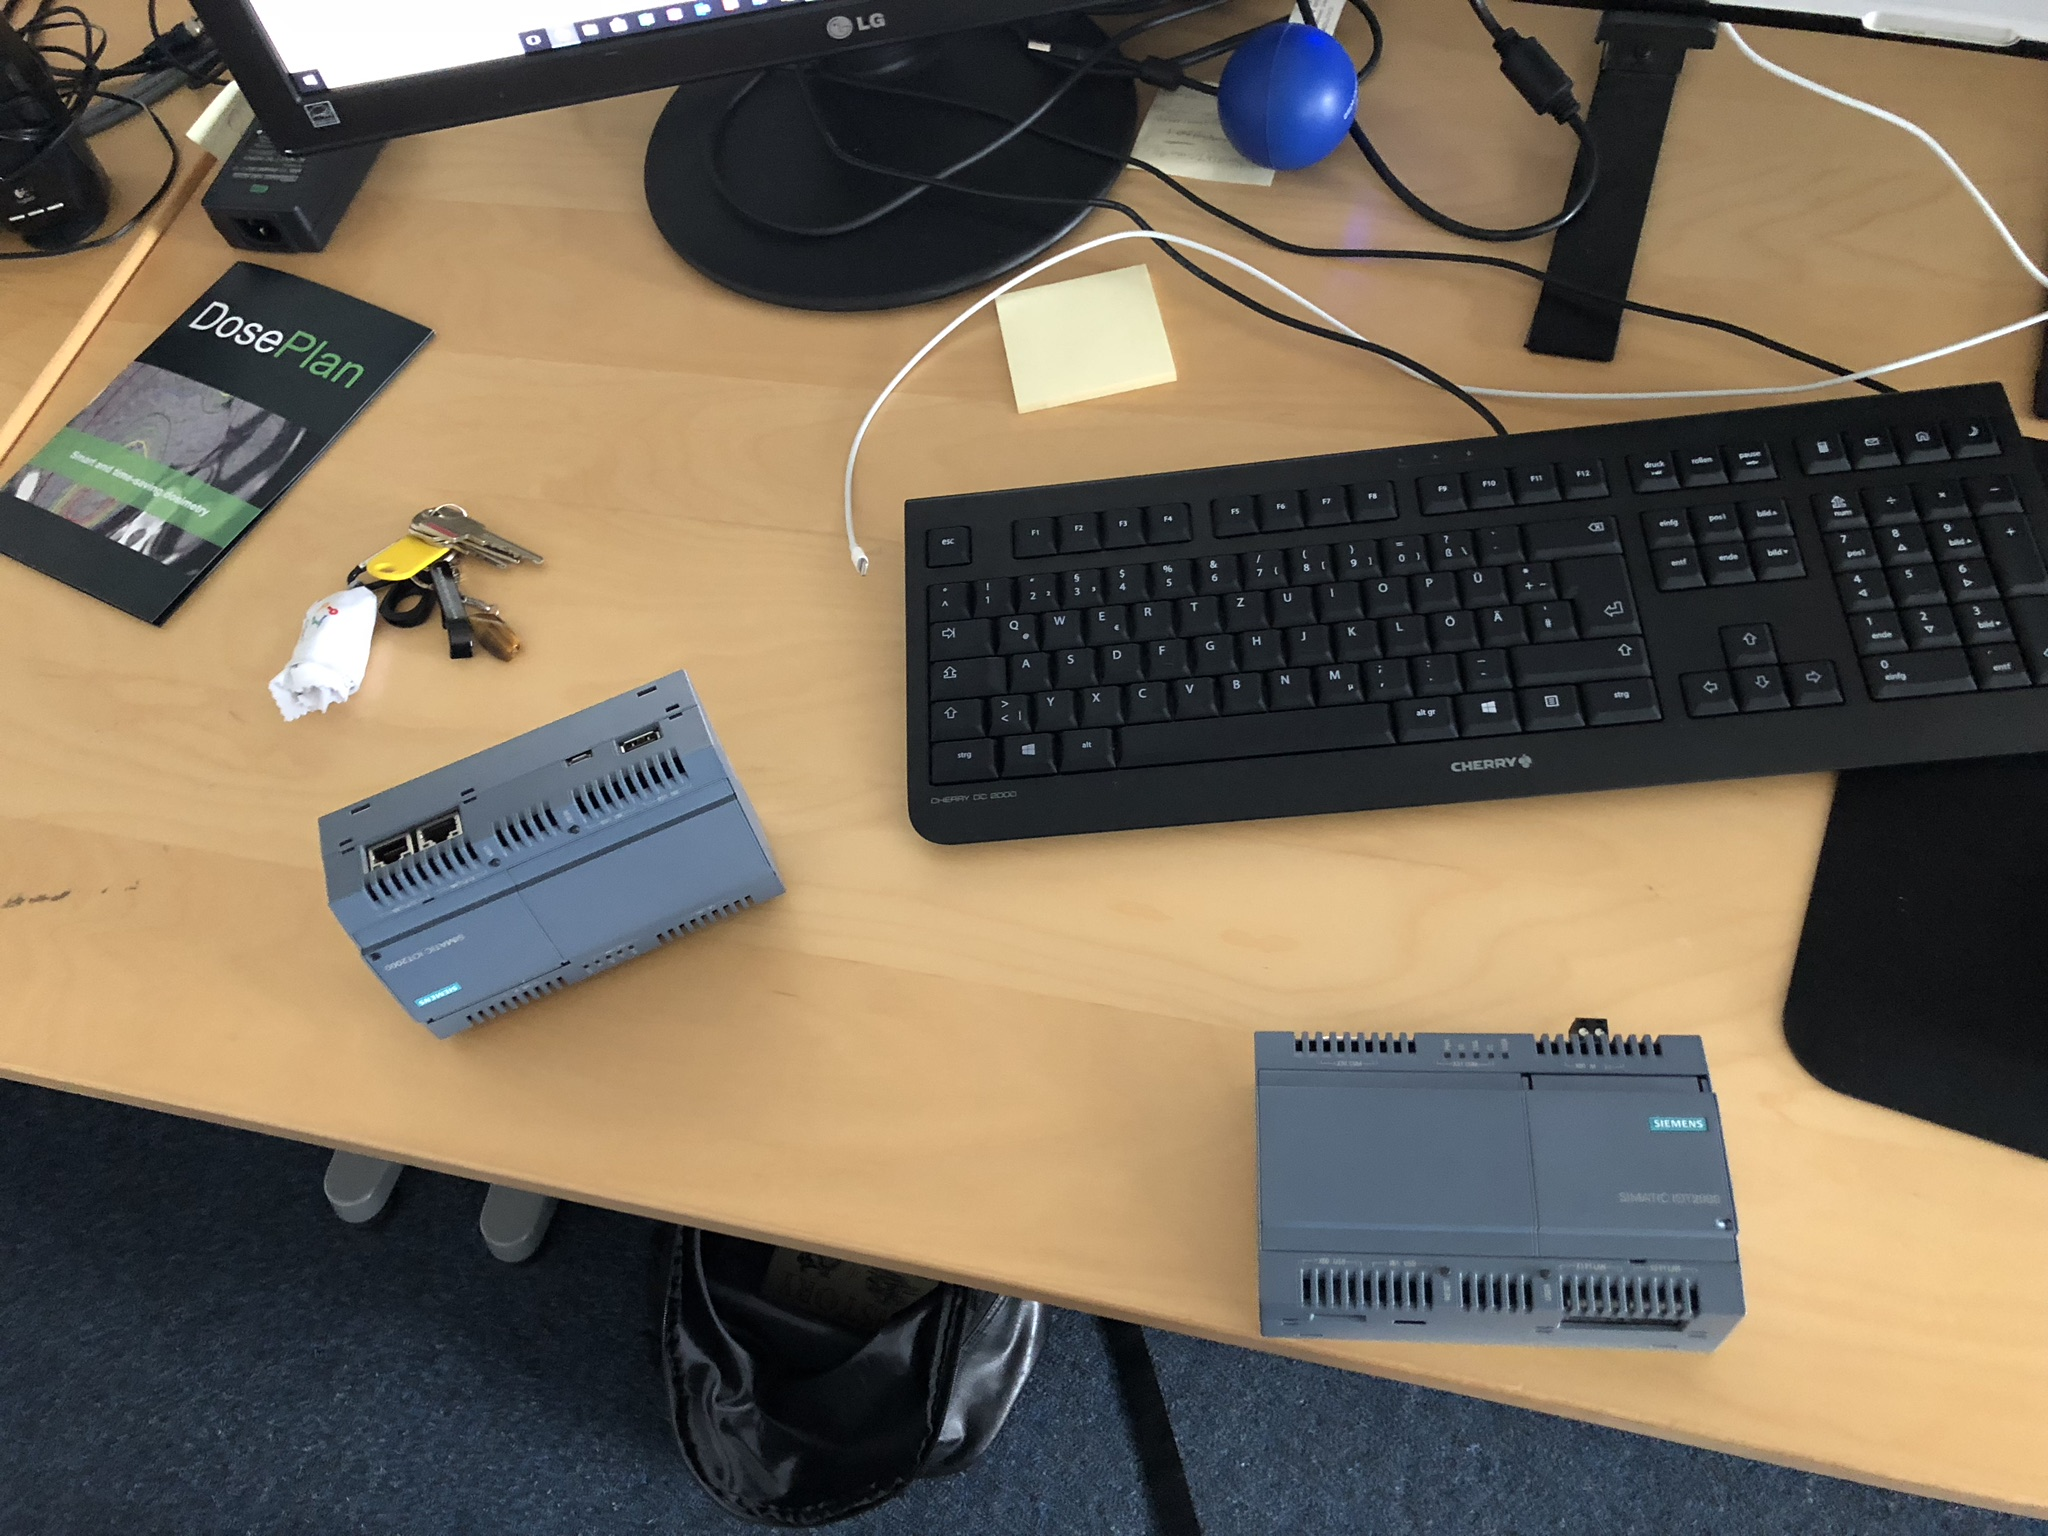device: (318, 670, 787, 1041), (1255, 1016, 1748, 1355)
